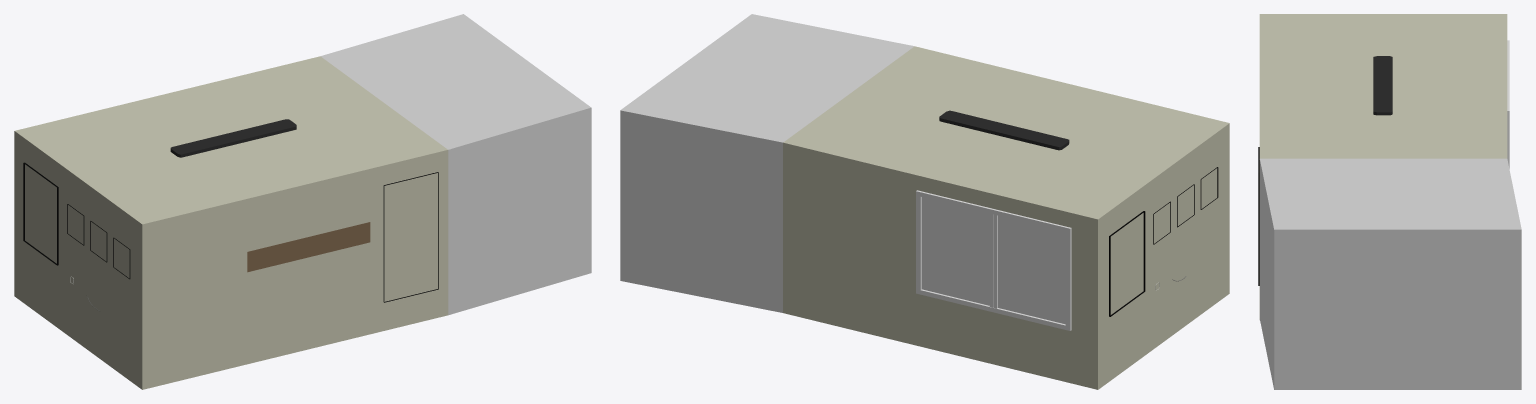
File: Habitacion con C1.fbx
The picture shows the model from 3 angles, left to right: view 1: azimuth 30°, elevation 25°; view 2: azimuth 150°, elevation 25°; view 3: azimuth 270°, elevation 25°; orthographic projection. The views are drawn at different scales.
Parts seen in each view (by area): view 1: Paredes.001, Paredes, Estanteria, lampara techo, Cuadro 3; view 2: Paredes, Paredes.001, Cristal, Ventana, lampara techo, Cuadro 1; view 3: Paredes, Paredes.001, lampara techo, Ventana, Cuadro 3.
Boxes of the visible parts, x1,y1,x2,y2 form: Paredes.001: (15, 56, 448, 389); Paredes: (14, 14, 591, 389); Estanteria: (247, 222, 370, 272); lampara techo: (170, 119, 296, 157); Cuadro 3: (383, 172, 438, 302); Paredes: (620, 14, 1229, 389); Paredes.001: (783, 46, 1229, 219); Cristal: (922, 197, 1065, 324); Ventana: (916, 190, 1071, 330); lampara techo: (939, 110, 1069, 150); Cuadro 1: (1109, 211, 1145, 316); Paredes: (1259, 158, 1521, 389); Paredes.001: (1259, 14, 1507, 158); lampara techo: (1373, 56, 1392, 115); Ventana: (1507, 40, 1509, 168); Cuadro 3: (1258, 147, 1259, 285).
Size of the model in its own units: 4696 by 1657 by 2415.
